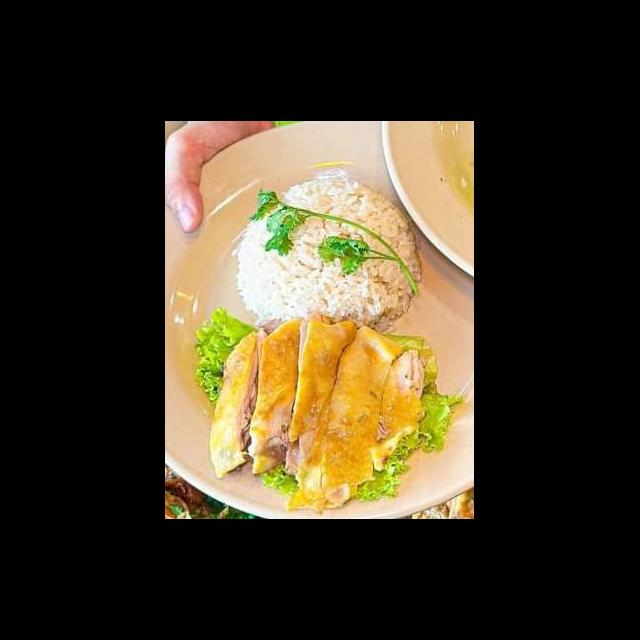com: (302, 202, 432, 454)
thit ga: (167, 272, 319, 436), (194, 269, 327, 375), (196, 222, 324, 306), (194, 174, 316, 262), (200, 381, 300, 460)
